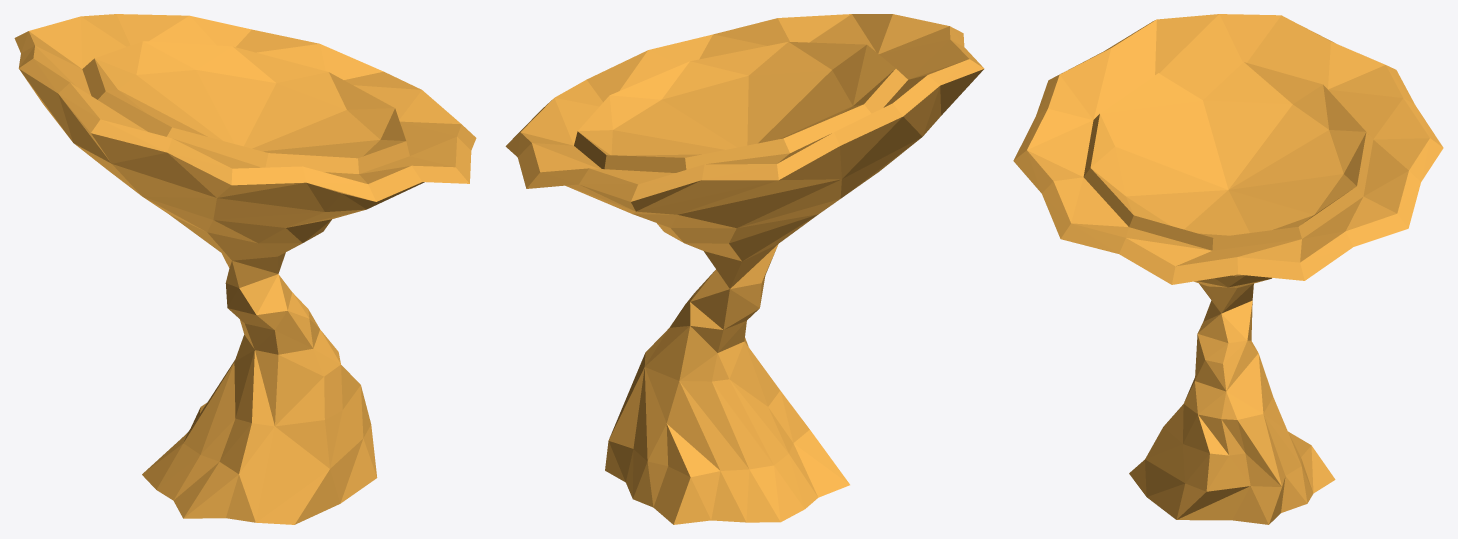
Rendered from _mashroom_3.glb.
The picture shows the model from 3 angles, left to right: view 1: azimuth 30°, elevation 25°; view 2: azimuth 150°, elevation 25°; view 3: azimuth 270°, elevation 25°; orthographic projection. The views are drawn at different scales.
Parts seen in each view (by area): view 1: mashroom_3; view 2: mashroom_3; view 3: mashroom_3.
Part boxes in pixels (box(x1,y1,x2,y2)): mashroom_3: box(14, 14, 476, 524); mashroom_3: box(505, 14, 984, 524); mashroom_3: box(1013, 14, 1443, 524).
Size of the model in its own units: 0.8717 by 0.9363 by 0.9443.
1 material, 1 textured.
